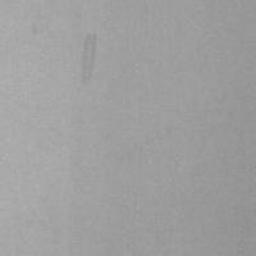Water spot: (79, 32, 97, 81)
